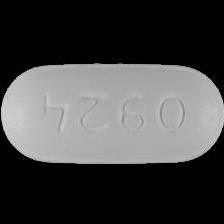50436-2899: (0, 0, 224, 224)
